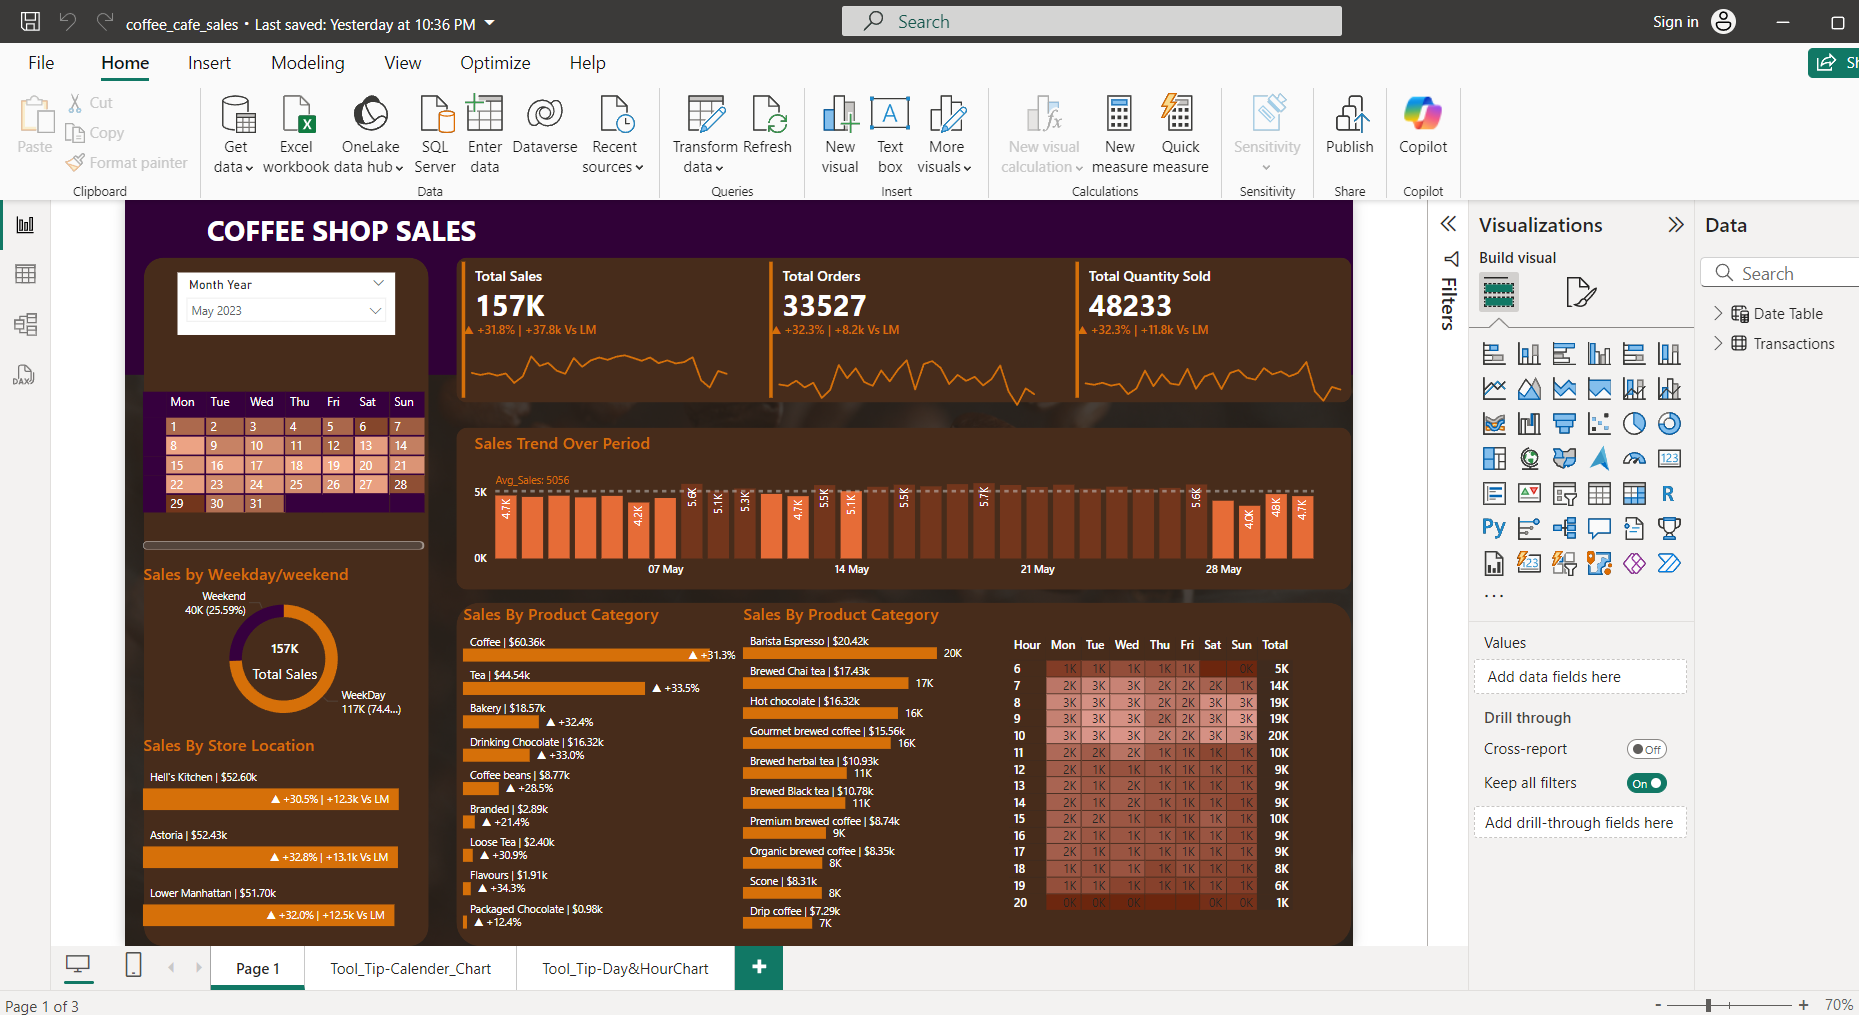

The page's visual inventory and layout, read from the dashboard file:
{"tool":"powerbi","page":{"name":"Page 1","canvas":[1400,850],"ordinal":0},"visuals":[{"type":"shape","box":[0,0,1400.1,199.4],"z":0},{"type":"cardVisual","fields":{"Data":["Transactions.Total Sales"]},"box":[378.9,65.5,300.5,165.2],"z":0,"group":"g1"},{"type":"cardVisual","fields":{"Data":["Transactions.Total Orders"]},"box":[728.5,65.5,300.5,165.2],"z":0,"group":"g2"},{"type":"cardVisual","fields":{"Data":["Transactions.Total Quantity Sold"]},"box":[1078.1,65.5,300.5,165.2],"z":0,"group":"g3"},{"type":"shape","box":[21.4,65.5,324.7,784.8],"z":1000},{"type":"lineChart","fields":{"Category":["Date Table.Date Hierarchy.Date"],"Y":["Transactions.Total Sales"]},"box":[380.3,138.1,320.5,102.5],"z":1000,"group":"g1"},{"type":"lineChart","fields":{"Category":["Date Table.Date Hierarchy.Date"],"Y":["Transactions.Total Orders"]},"box":[729.9,138.1,320.5,102.5],"z":1000,"group":"g2"},{"type":"lineChart","fields":{"Category":["Date Table.Date Hierarchy.Date"],"Y":["Transactions.Total Quantity Sold"]},"box":[1079.5,138.1,320.5,102.5],"z":1000,"group":"g3"},{"type":"shape","box":[377.4,65.5,1020,165.2],"z":2000},{"type":"textbox","box":[88.3,7.1,334.7,58.4],"z":3000},{"type":"slicer","fields":{"Values":["Date Table.Month Year"]},"box":[59.8,82.6,247.8,71.2],"z":4000},{"type":"group","id":"g1","title":"Group 1","box":[378.9,65.5,321.9,175.2],"z":5000},{"type":"group","id":"g2","title":"Group 1","box":[728.5,65.5,321.9,175.2],"z":6000},{"type":"group","id":"g3","title":"Group 1","box":[1078.1,65.5,321.9,175.2],"z":7000},{"type":"pivotTable","fields":{"Columns":["Date Table.Day Name"],"Rows":["Date Table.Week No"],"Values":["Min(Date Table.Day No)"]},"box":[15.7,213.6,330.4,189.4],"z":8000},{"type":"donutChart","title":" Sales by Weekday/weekend","fields":{"Category":["Date Table.Weekday/weekend"],"Y":["Transactions.Total Sales"]},"box":[15.7,413,330.4,195.1],"z":9000},{"type":"card","fields":{"Values":["Transactions.Total Sales"]},"box":[57,450.1,250.7,146.7],"z":10000},{"type":"clusteredBarChart","title":"Sales By Store Location","fields":{"Category":["Transactions.store_location"],"Y":["Transactions.Placeholder","Transactions.Total Sales"]},"box":[15.7,608.2,330.4,227.9],"z":11000},{"type":"shape","box":[377.4,259.2,1019.8,185],"z":12000},{"type":"columnChart","title":"Sales Trend Over Period","fields":{"Category":["Transactions.transaction_date"],"Y":["Transactions.Total Sales"]},"box":[393.1,263.5,974.2,175.2],"z":13000},{"type":"shape","box":[377.4,458.6,1019.8,391.7],"z":14000},{"type":"clusteredBarChart","title":"Sales By Product Category","fields":{"Y":["Transactions.Placeholder","Transactions.Total Sales"],"Category":["Transactions.product_category"]},"box":[380.3,458.6,320.5,377.4],"z":15000},{"type":"clusteredBarChart","title":"Sales By Product Category","fields":{"Y":["Transactions.Placeholder","Transactions.Total Sales"],"Category":["Transactions.product_type"]},"box":[699.3,458.6,266.3,377.4],"z":16000},{"type":"pivotTable","fields":{"Rows":["Transactions.Hour"],"Columns":["Date Table.Day Name"],"Values":["Transactions.Total Sales"]},"box":[1002.7,492.8,364.6,343.2],"z":16001}]}

Visuals, with their boxes on the page's 1400x850 design canvas (x1, y1, x2, y2). These are canvas units, not pixel positions in the 1859x1015 screenshot, which may show the page scaled, cropped or inside an application window:
shape: crop(0, 0, 1400, 199)
cardVisual - Transactions.Total Sales: crop(379, 66, 679, 231)
cardVisual - Transactions.Total Orders: crop(728, 66, 1029, 231)
cardVisual - Transactions.Total Quantity Sold: crop(1078, 66, 1379, 231)
shape: crop(21, 66, 346, 850)
lineChart - Date Table.Date Hierarchy.Date x Transactions.Total Sales: crop(380, 138, 701, 241)
lineChart - Date Table.Date Hierarchy.Date x Transactions.Total Orders: crop(730, 138, 1050, 241)
lineChart - Date Table.Date Hierarchy.Date x Transactions.Total Quantity Sold: crop(1080, 138, 1400, 241)
shape: crop(377, 66, 1397, 231)
textbox: crop(88, 7, 423, 66)
slicer - Date Table.Month Year: crop(60, 83, 308, 154)
"Group 1" group: crop(379, 66, 701, 241)
"Group 1" group: crop(728, 66, 1050, 241)
"Group 1" group: crop(1078, 66, 1400, 241)
pivotTable - Date Table.Day Name x Date Table.Week No: crop(16, 214, 346, 403)
" Sales by Weekday/weekend" donutChart: crop(16, 413, 346, 608)
card - Transactions.Total Sales: crop(57, 450, 308, 597)
"Sales By Store Location" clusteredBarChart: crop(16, 608, 346, 836)
shape: crop(377, 259, 1397, 444)
"Sales Trend Over Period" columnChart: crop(393, 264, 1367, 439)
shape: crop(377, 459, 1397, 850)
"Sales By Product Category" clusteredBarChart: crop(380, 459, 701, 836)
"Sales By Product Category" clusteredBarChart: crop(699, 459, 966, 836)
pivotTable - Transactions.Hour x Date Table.Day Name: crop(1003, 493, 1367, 836)
